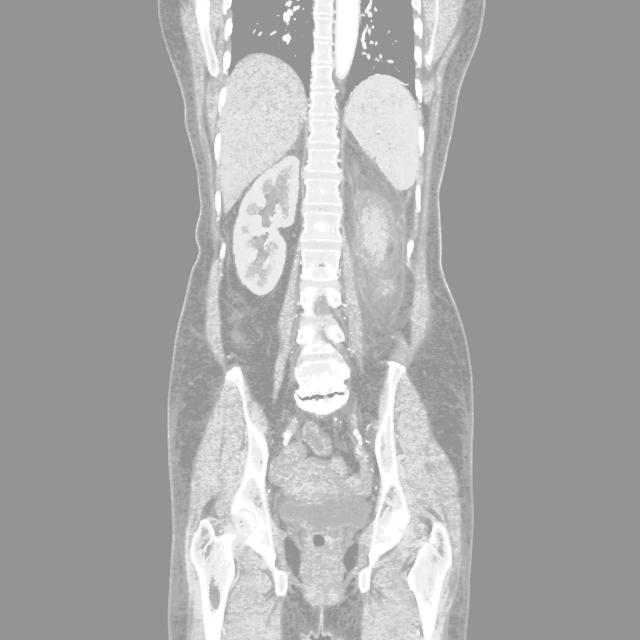TUMOR: (200, 222, 462, 399)
